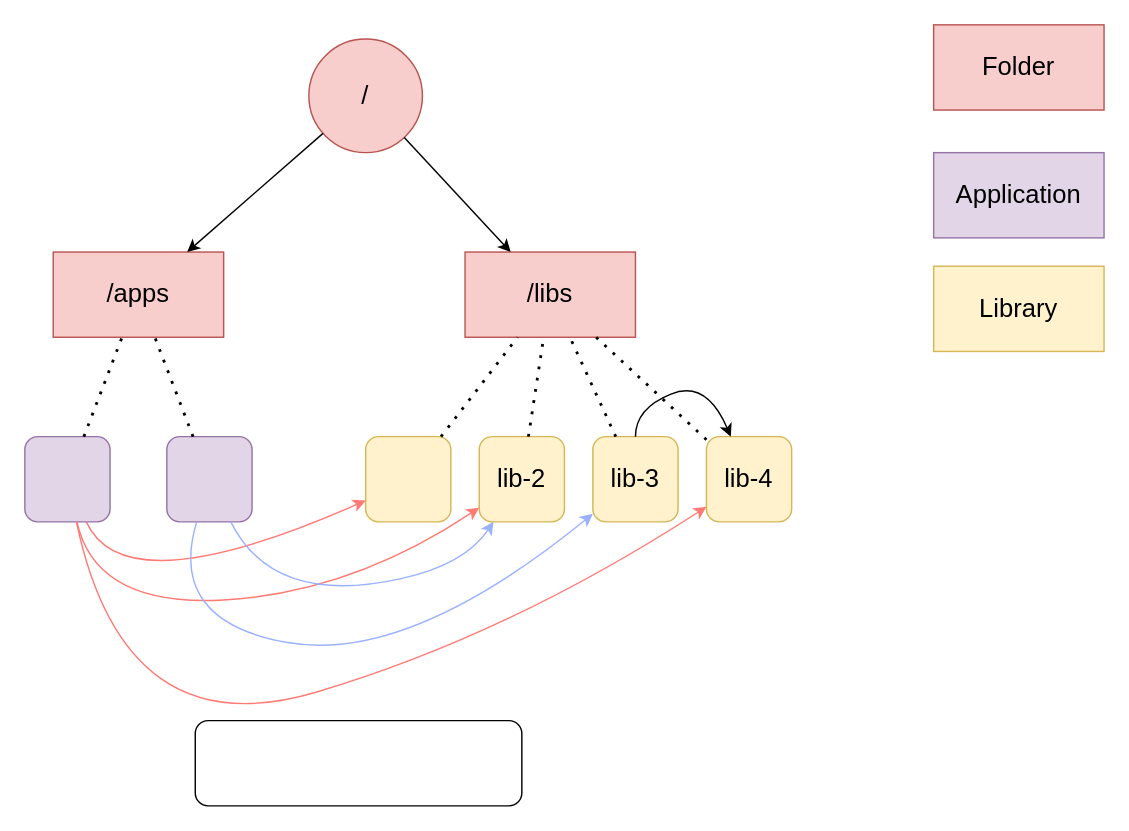
The diagram is 1129 pixels wide and 831 high, and some of its shapes have lost their labels. Each missing label, with the box of its shape:
app-1: (23, 435, 110, 522)
app-2: (165, 435, 252, 522)
lib-1: (364, 435, 451, 522)
node_modules: (194, 719, 522, 806)
